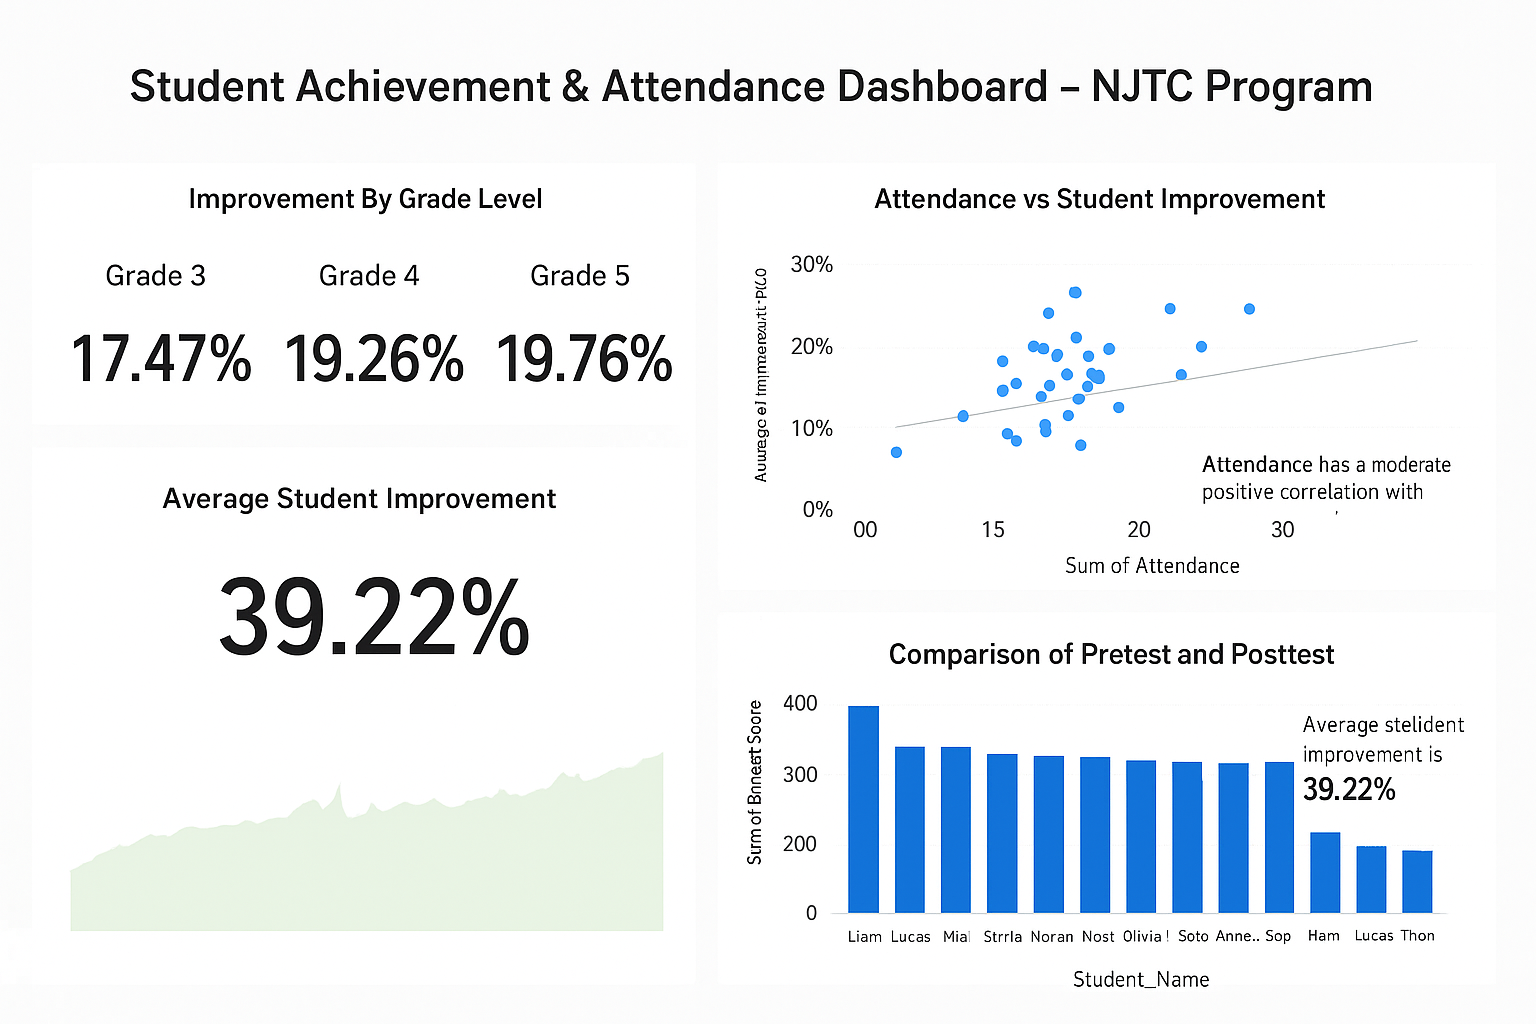

The dashboard page shown, as its layout file describes it:
{"tool":"powerbi","page":{"name":"Page 1","canvas":[1280,720],"ordinal":0},"visuals":[{"type":"clusteredColumnChart","title":"Comparison of Pretest and Postest","fields":{"Category":["Elementary_Tutoring_MockData_100Students.Student_Name"],"Y":["Sum(Elementary_Tutoring_MockData_100Students.Pretest_Score)","Sum(Elementary_Tutoring_MockData_100Students.Posttest_Score)"]},"box":[594.6,366.9,416.3,328.6],"z":0},{"type":"kpi","title":"Average Student Improvement","fields":{"Indicator":["Sum(Elementary_Tutoring_MockData_100Students.Improvement_Pct)"],"TrendLine":["Elementary_Tutoring_MockData_100Students.Improvement_Pct"]},"box":[34.3,366.9,415.2,328.6],"z":1000},{"type":"cardVisual","title":"Improvement By Grade level","fields":{"Data":["Avg(Elementary_Tutoring_MockData_100Students.Improvement_Pct)"],"Rows":["Elementary_Tutoring_MockData_100Students.Grade"]},"box":[222.7,0,324.5,328.6],"z":2000},{"type":"scatterChart","title":"Attendance vs Student Improvement","fields":{"Category":["Elementary_Tutoring_MockData_100Students.Student_Name"],"X":["Sum(Elementary_Tutoring_MockData_100Students.Attendance)"],"Y":["Avg(Elementary_Tutoring_MockData_100Students.Improvement_Pct)"]},"box":[672.3,10.1,323.5,328.6],"z":3000}]}

Visuals, with their boxes on the page's 1280x720 design canvas (x1, y1, x2, y2). These are canvas units, not pixel positions in the 1536x1024 screenshot, which may show the page scaled, cropped or inside an application window:
"Comparison of Pretest and Postest" clusteredColumnChart: (x1=595, y1=367, x2=1011, y2=696)
"Average Student Improvement" kpi: (x1=34, y1=367, x2=450, y2=696)
"Improvement By Grade level" cardVisual: (x1=223, y1=0, x2=547, y2=329)
"Attendance vs Student Improvement" scatterChart: (x1=672, y1=10, x2=996, y2=339)
